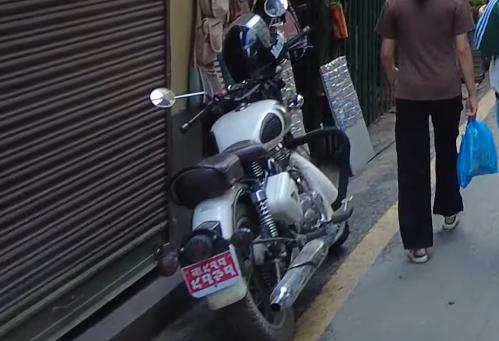bike: (145, 0, 362, 341)
